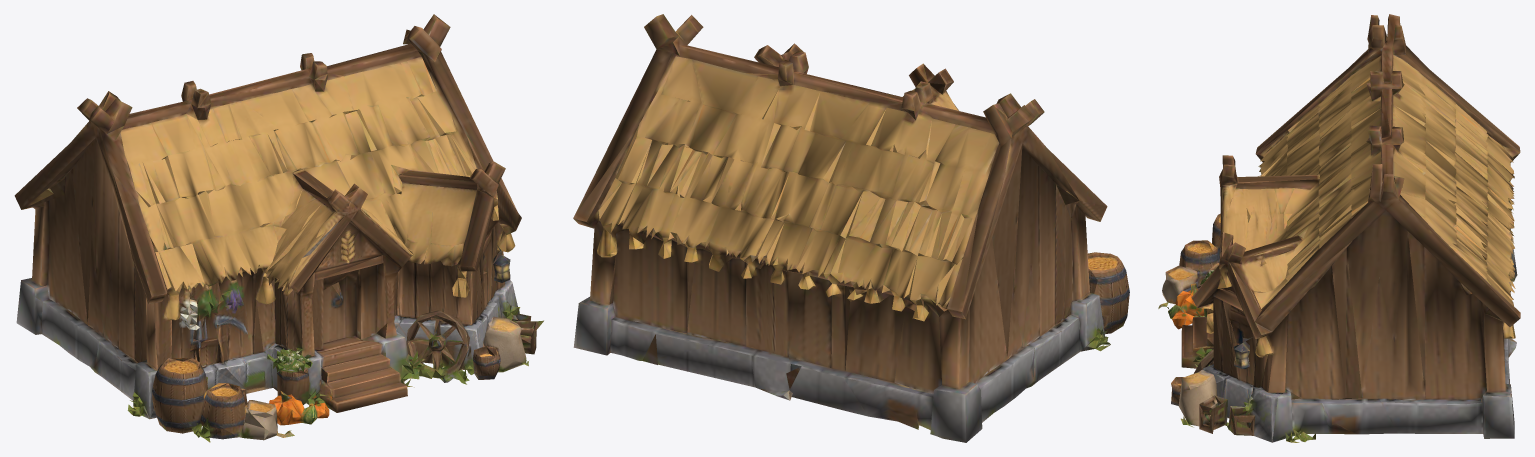
File: farm-homestead.glb
3 views of the same model, side by side, from view 1: azimuth 30°, elevation 25°; view 2: azimuth 150°, elevation 25°; view 3: azimuth 270°, elevation 25° (orthographic). The views are drawn at different scales.
Parts seen in each view (by area): view 1: output_unwrapped; view 2: output_unwrapped; view 3: output_unwrapped.
Part boxes in pixels (<box>): output_unwrapped: <box>14,14,543,442</box>; output_unwrapped: <box>573,14,1129,442</box>; output_unwrapped: <box>1158,14,1520,442</box>.
Bounding box in the file's own units: 6.1 × 4 × 5.08.
1 material, 1 textured.
